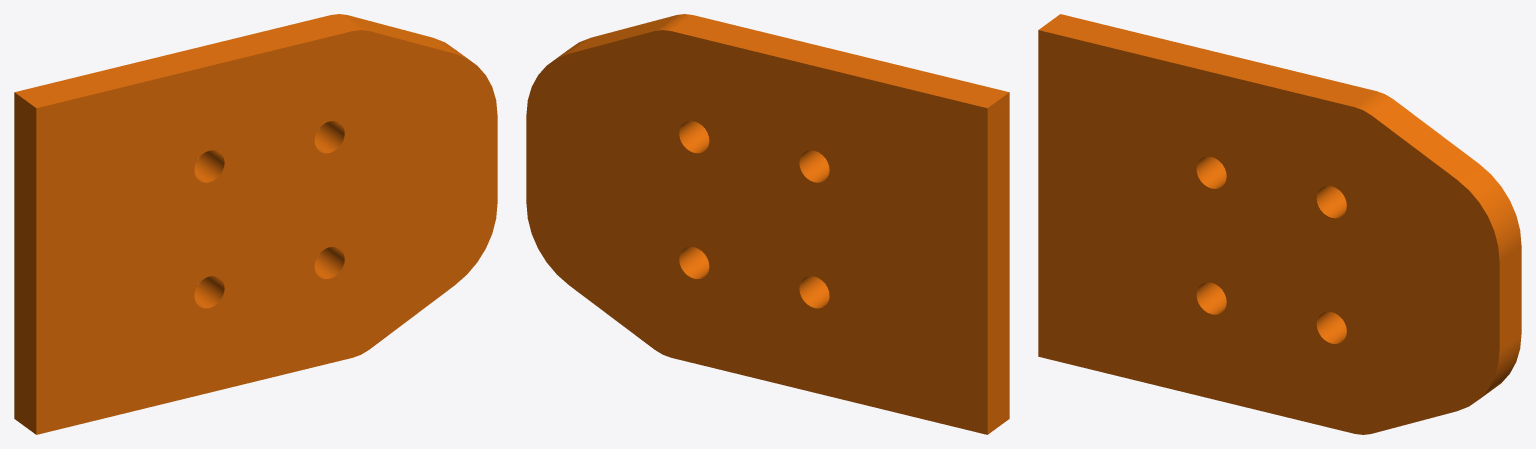
Rendered from tool_adapter.dae.
3 views of the same model, side by side, from view 1: azimuth 30°, elevation 25°; view 2: azimuth 150°, elevation 25°; view 3: azimuth 330°, elevation 25° (orthographic).
Parts seen in each view (by area): view 1: Actor0; view 2: Actor0; view 3: Actor0.
Boxes of the visible parts, <box> form: Actor0: <box>14,14,497,434</box>; Actor0: <box>526,14,1009,434</box>; Actor0: <box>1038,14,1521,434</box>.
Bounding box in the file's own units: 0.122 × 0.0826 × 0.01.
